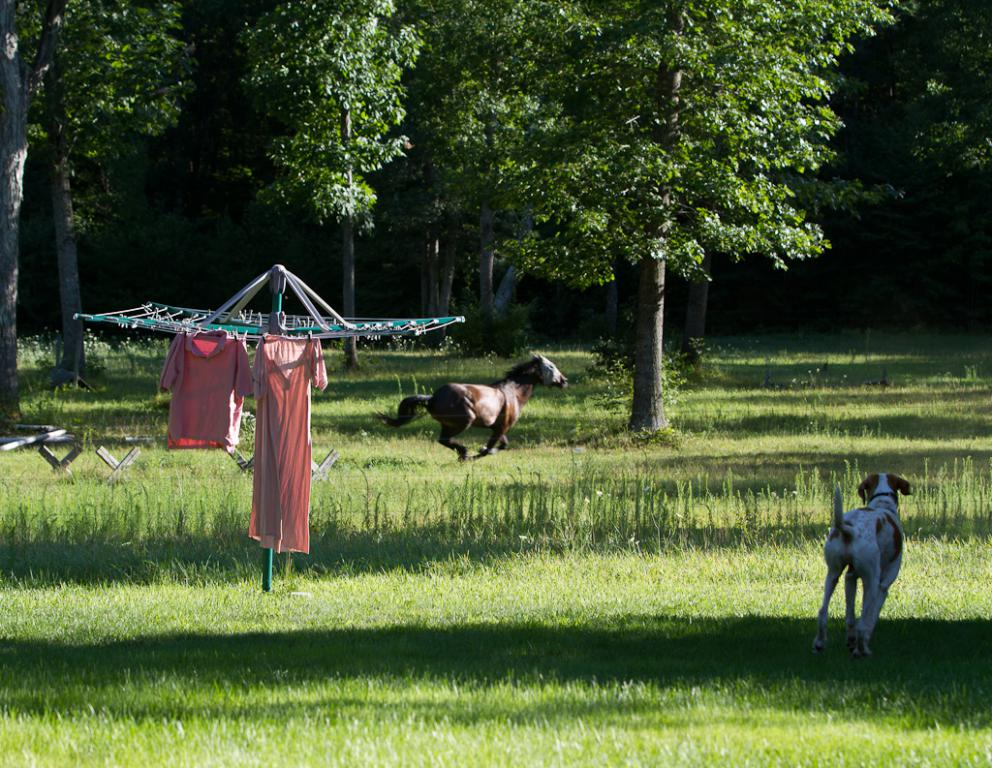horse: (376, 348, 572, 458)
